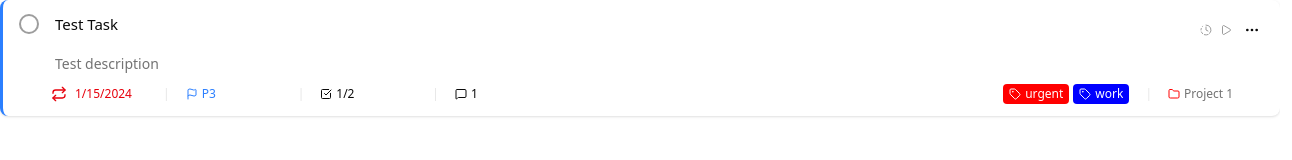
Test: TaskItem › Title Editing › updates task title on content change
Later steps or results of the test are not shown.
What coordinates should you click on to do the following:
click the heading with test id "linkified-text"
I would click on:
 (86, 24)
Its box is [51,12,122,36].
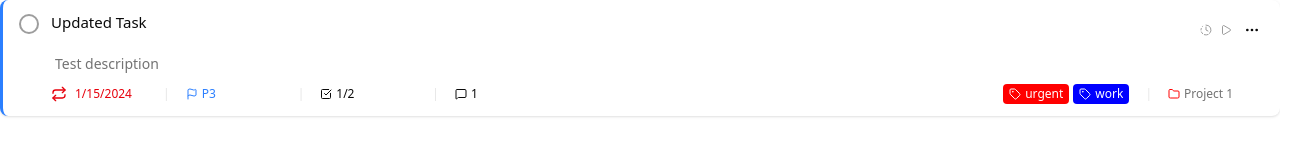
Now the heading "Updated Task" is shown, box [51,12,147,32]
